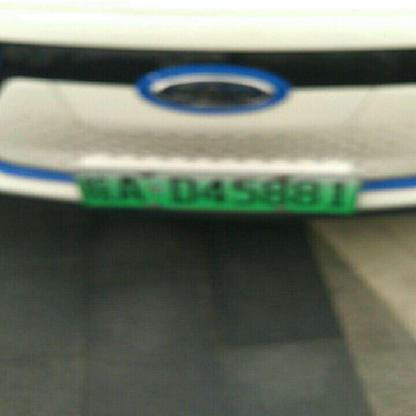lp: (76, 171, 358, 213)
